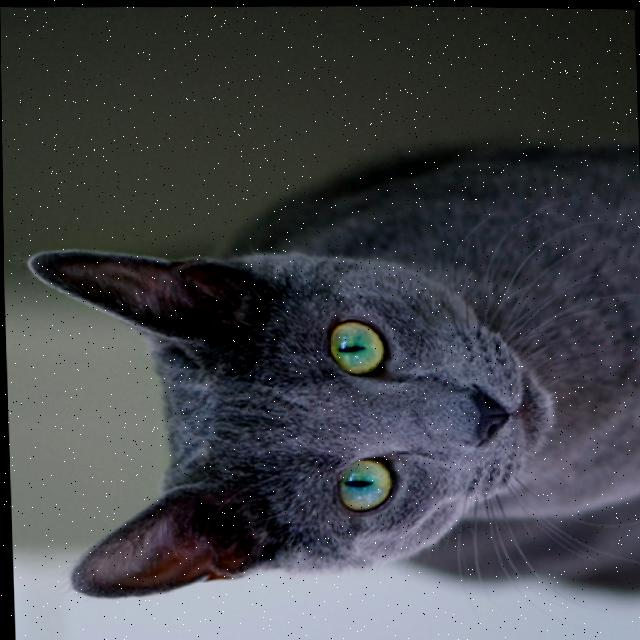Russian Blue: (18, 125, 640, 609)
